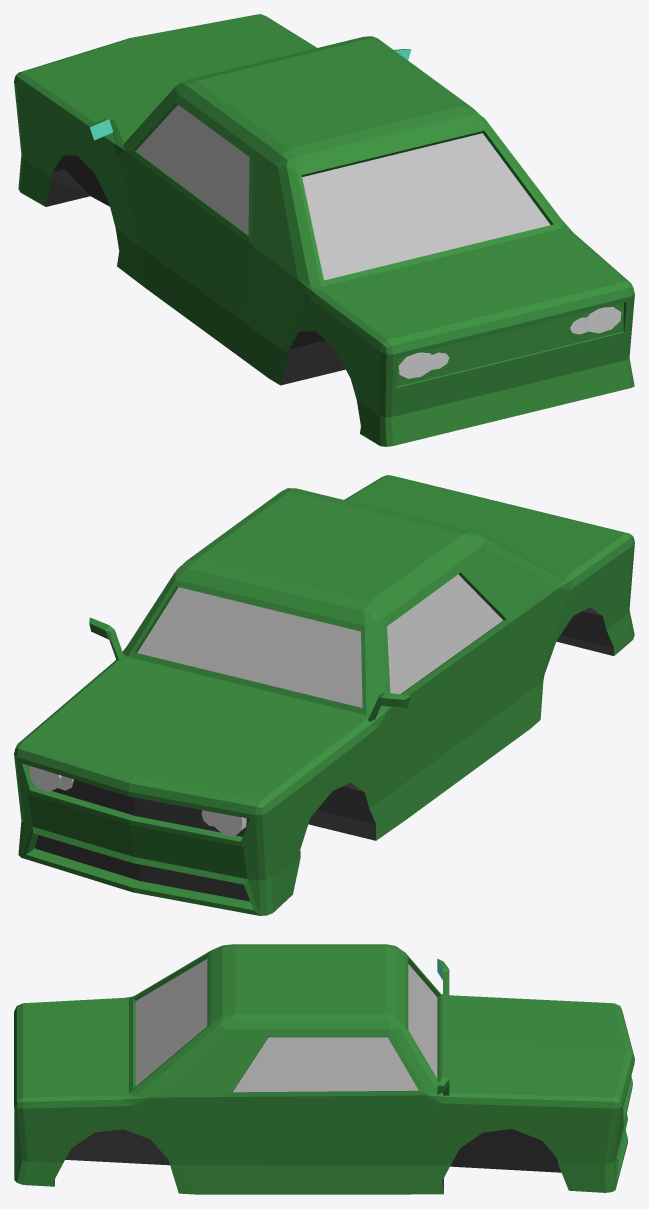
The model's file is AIcar4.fbx.
The picture shows the model from 3 angles, top to bottom: view 1: azimuth 30°, elevation 25°; view 2: azimuth 150°, elevation 25°; view 3: azimuth 270°, elevation 25°; orthographic projection. The views are drawn at different scales.
Parts seen in each view (by area): view 1: AIcar1; view 2: AIcar1; view 3: AIcar1.
Boxes of the visible parts, left/top/right/bottom form: AIcar1: left=14, top=14, right=634, bottom=446; AIcar1: left=14, top=475, right=634, bottom=915; AIcar1: left=14, top=944, right=634, bottom=1194.
Bounding box in the file's own units: 4.37 × 2.62 × 9.03.
